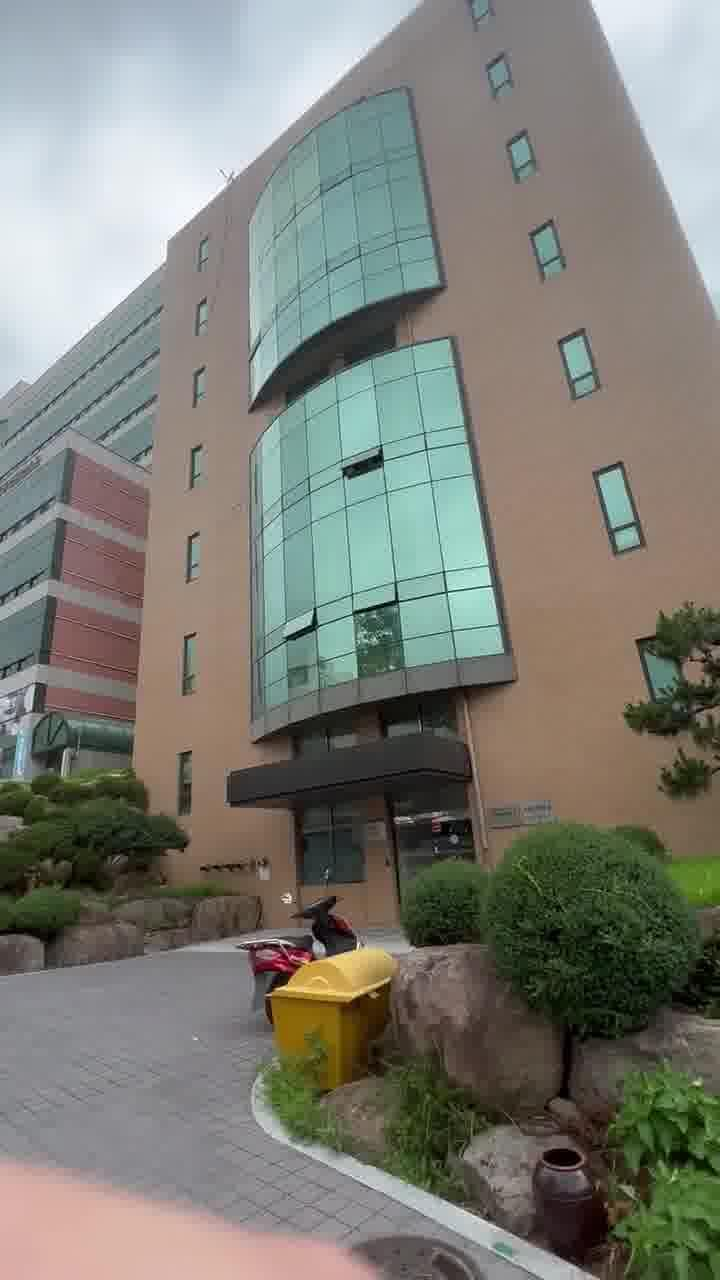building: (130, 92, 554, 824)
